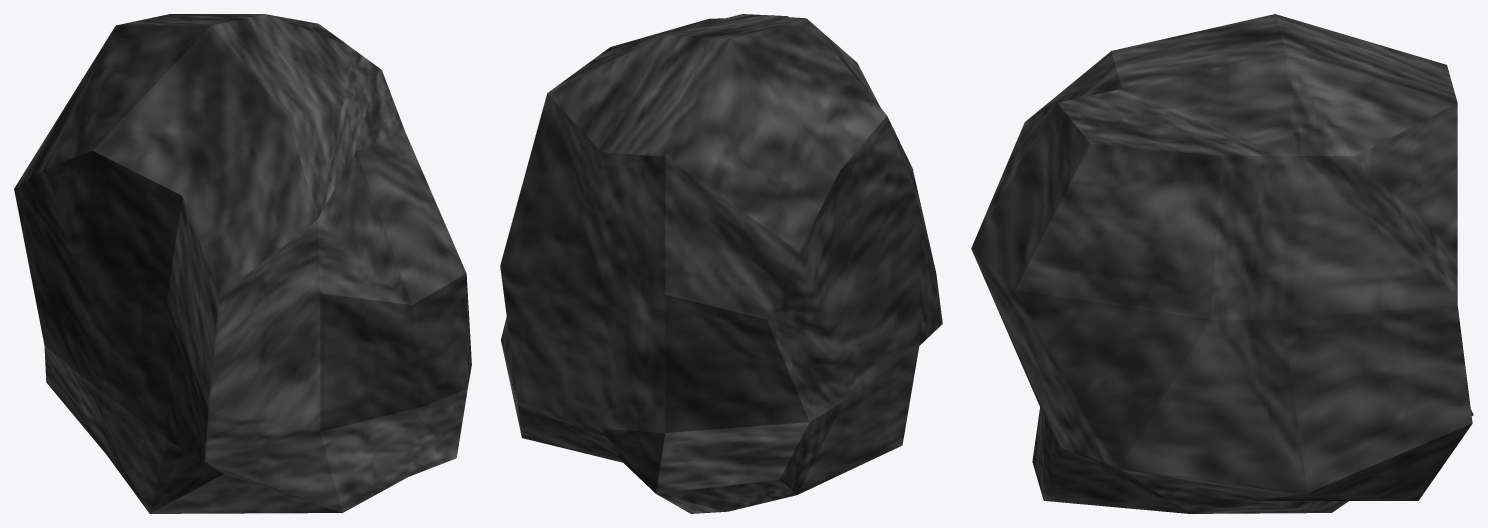
File: Coal.glb
The picture shows the model from 3 angles, left to right: view 1: azimuth 30°, elevation 25°; view 2: azimuth 150°, elevation 25°; view 3: azimuth 270°, elevation 25°; orthographic projection. The views are drawn at different scales.
Parts seen in each view (by area): view 1: Cube; view 2: Cube; view 3: Cube.
Boxes of the visible parts, left/top/right/bottom form: Cube: left=14, top=14, right=471, bottom=513; Cube: left=500, top=14, right=942, bottom=513; Cube: left=971, top=14, right=1473, bottom=513.
Bounding box in the file's own units: 1.7 × 2.21 × 2.05.
Materials: 1 (1 with a texture image).
